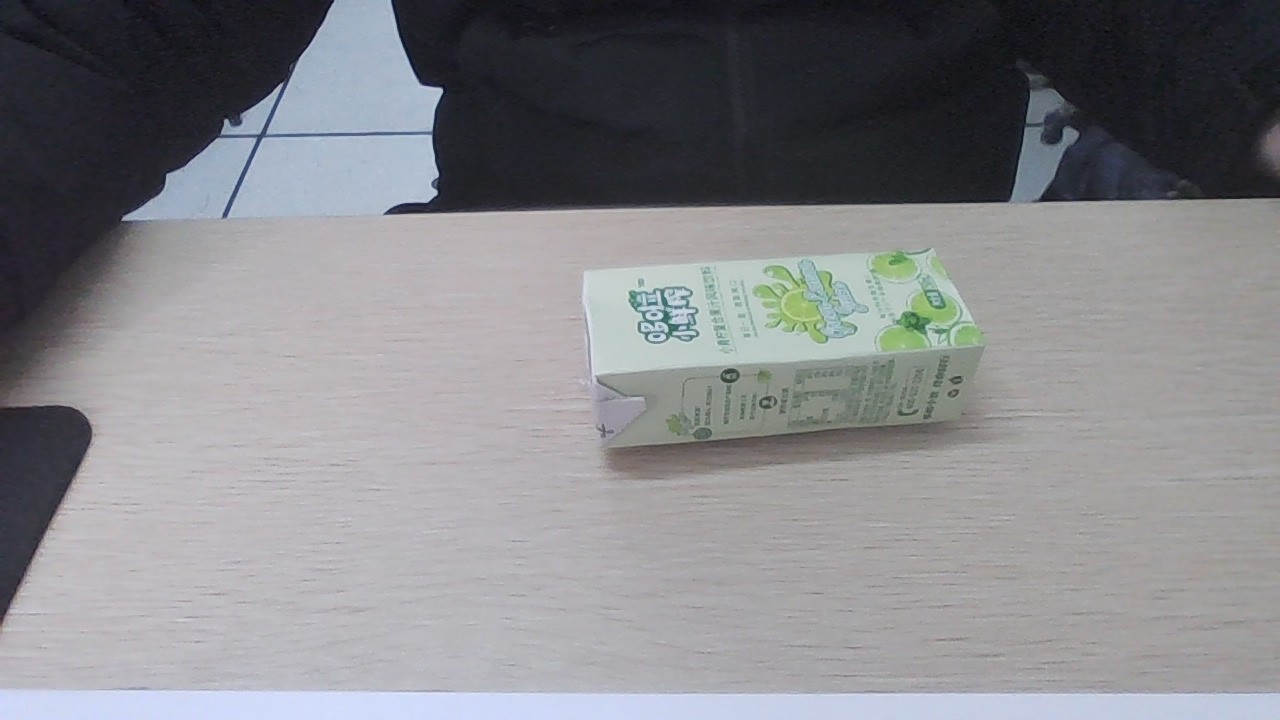CY-drink: (575, 253, 971, 433)
